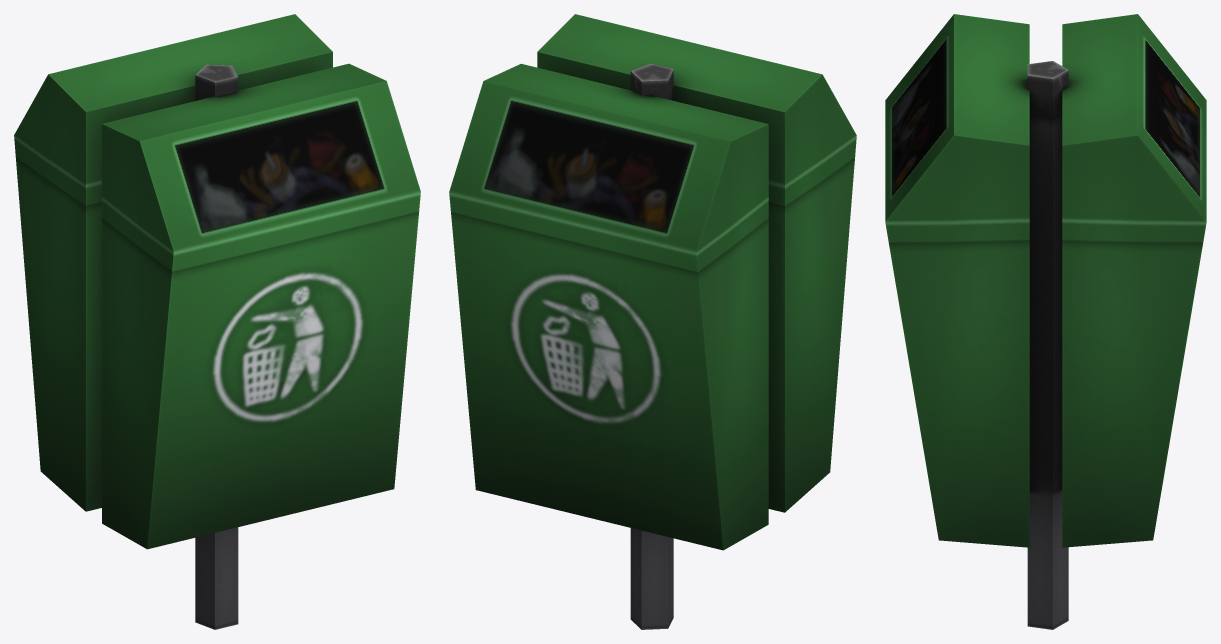
The model's file is Vuilbak_dubbel.FBX.
3 views of the same model, side by side, from view 1: azimuth 30°, elevation 25°; view 2: azimuth 150°, elevation 25°; view 3: azimuth 270°, elevation 25° (orthographic).
Visible parts, largest first — view 1: Cylinder01; view 2: Cylinder01; view 3: Cylinder01.
Part boxes in pixels (x1,y1,x2,y2): Cylinder01: (14, 14, 420, 629); Cylinder01: (449, 14, 856, 629); Cylinder01: (885, 14, 1206, 629).
Bounding box in the file's own units: 37.79 × 80 × 42.32.
Materials: 1 (1 with a texture image).
